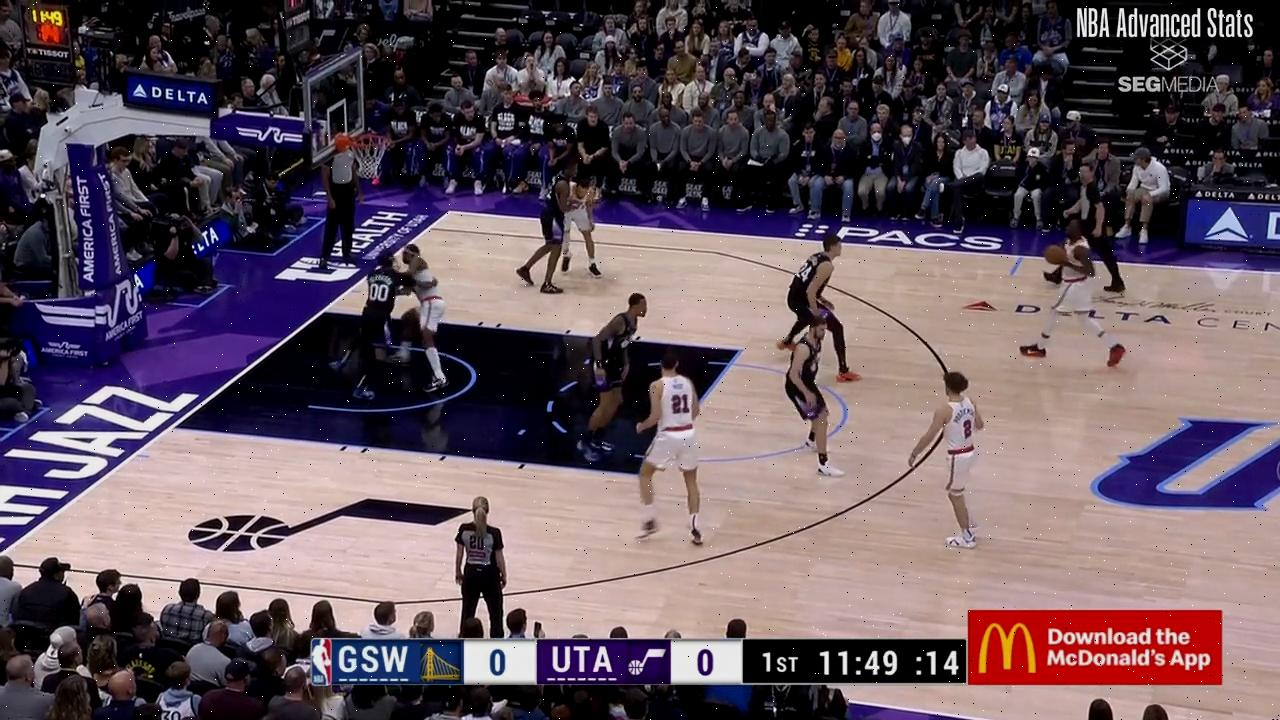basketball: (1044, 243, 1066, 266)
